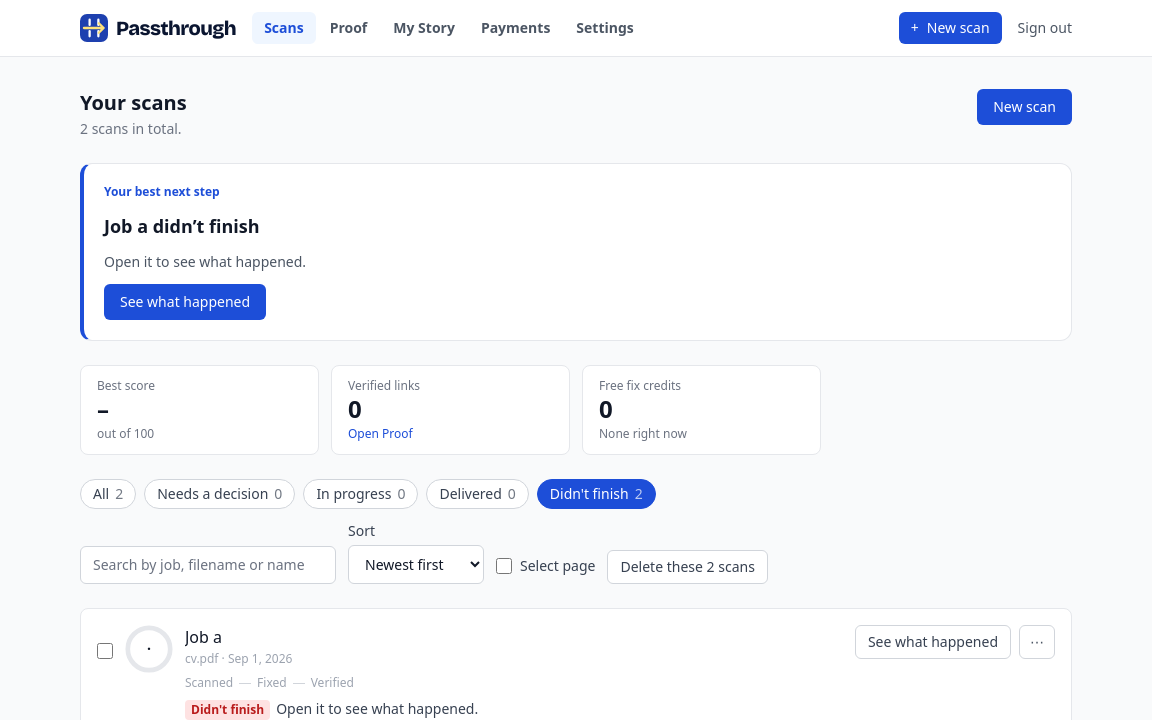
Test: dashboard — delete the scans the filters show › with a filter it offers the count, asks first (naming the filter), and sends nothing until confirmed
The width and height of the screenshot is (1152, 720).
Click the button "Delete these 2 scans" at point(688, 567), box [608,550,768,584]
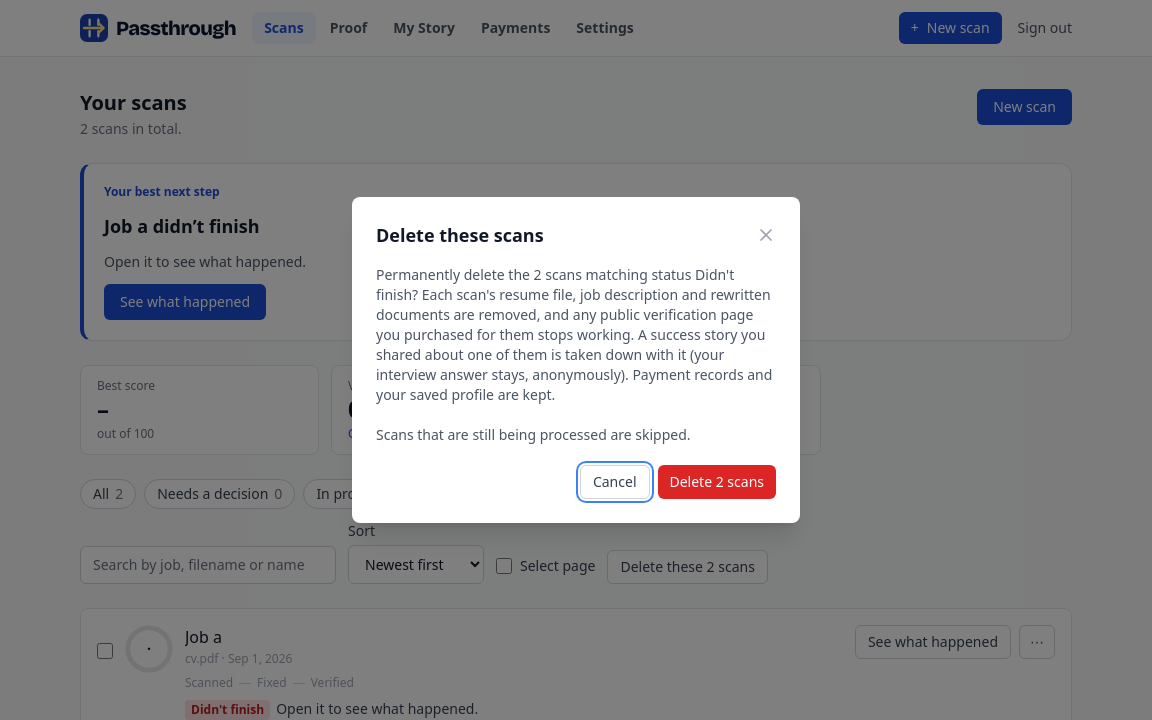
Expected: the text "Payment records and your saved profile are kept" is shown, [376,265,772,444]
